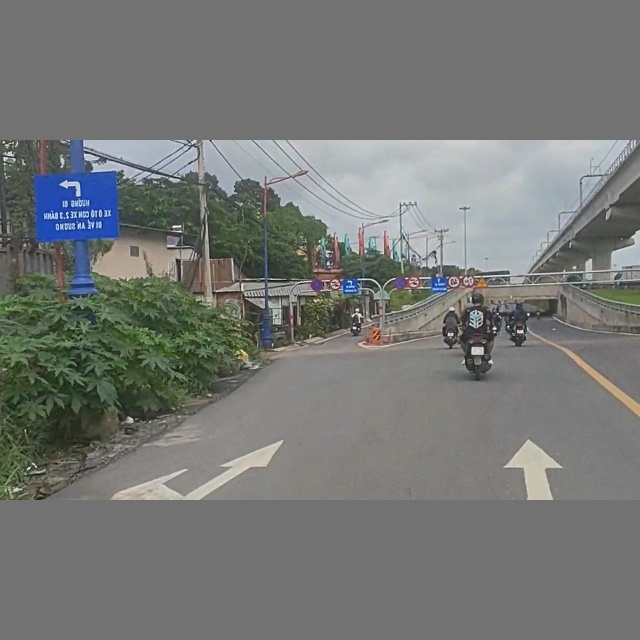P.107: (407, 276, 421, 288), (329, 278, 341, 290)
P.117*: (461, 274, 475, 288)
P.127*40: (447, 275, 461, 289)
P.130: (393, 277, 407, 290), (310, 279, 323, 292)
W.239b*: (475, 276, 489, 289)
